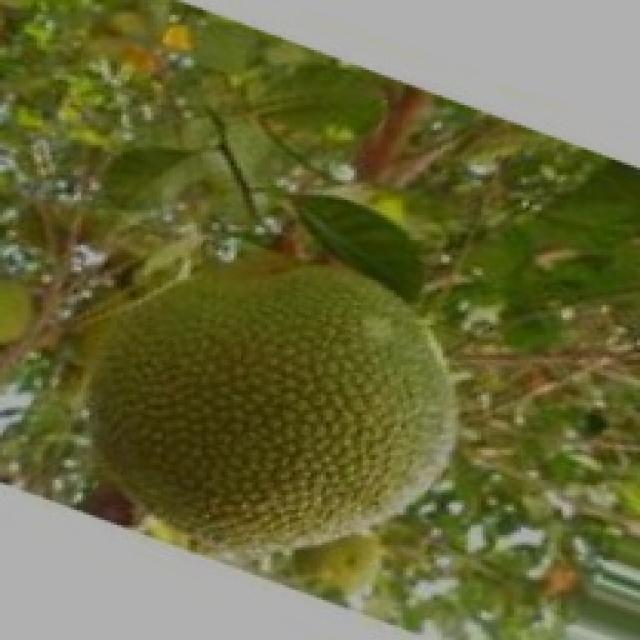Fruit: (68, 215, 486, 583)
